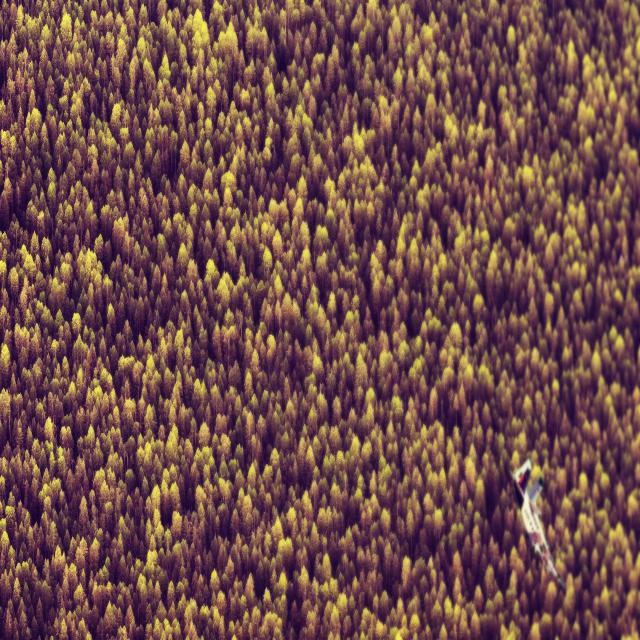airplane: (509, 458, 566, 591)
